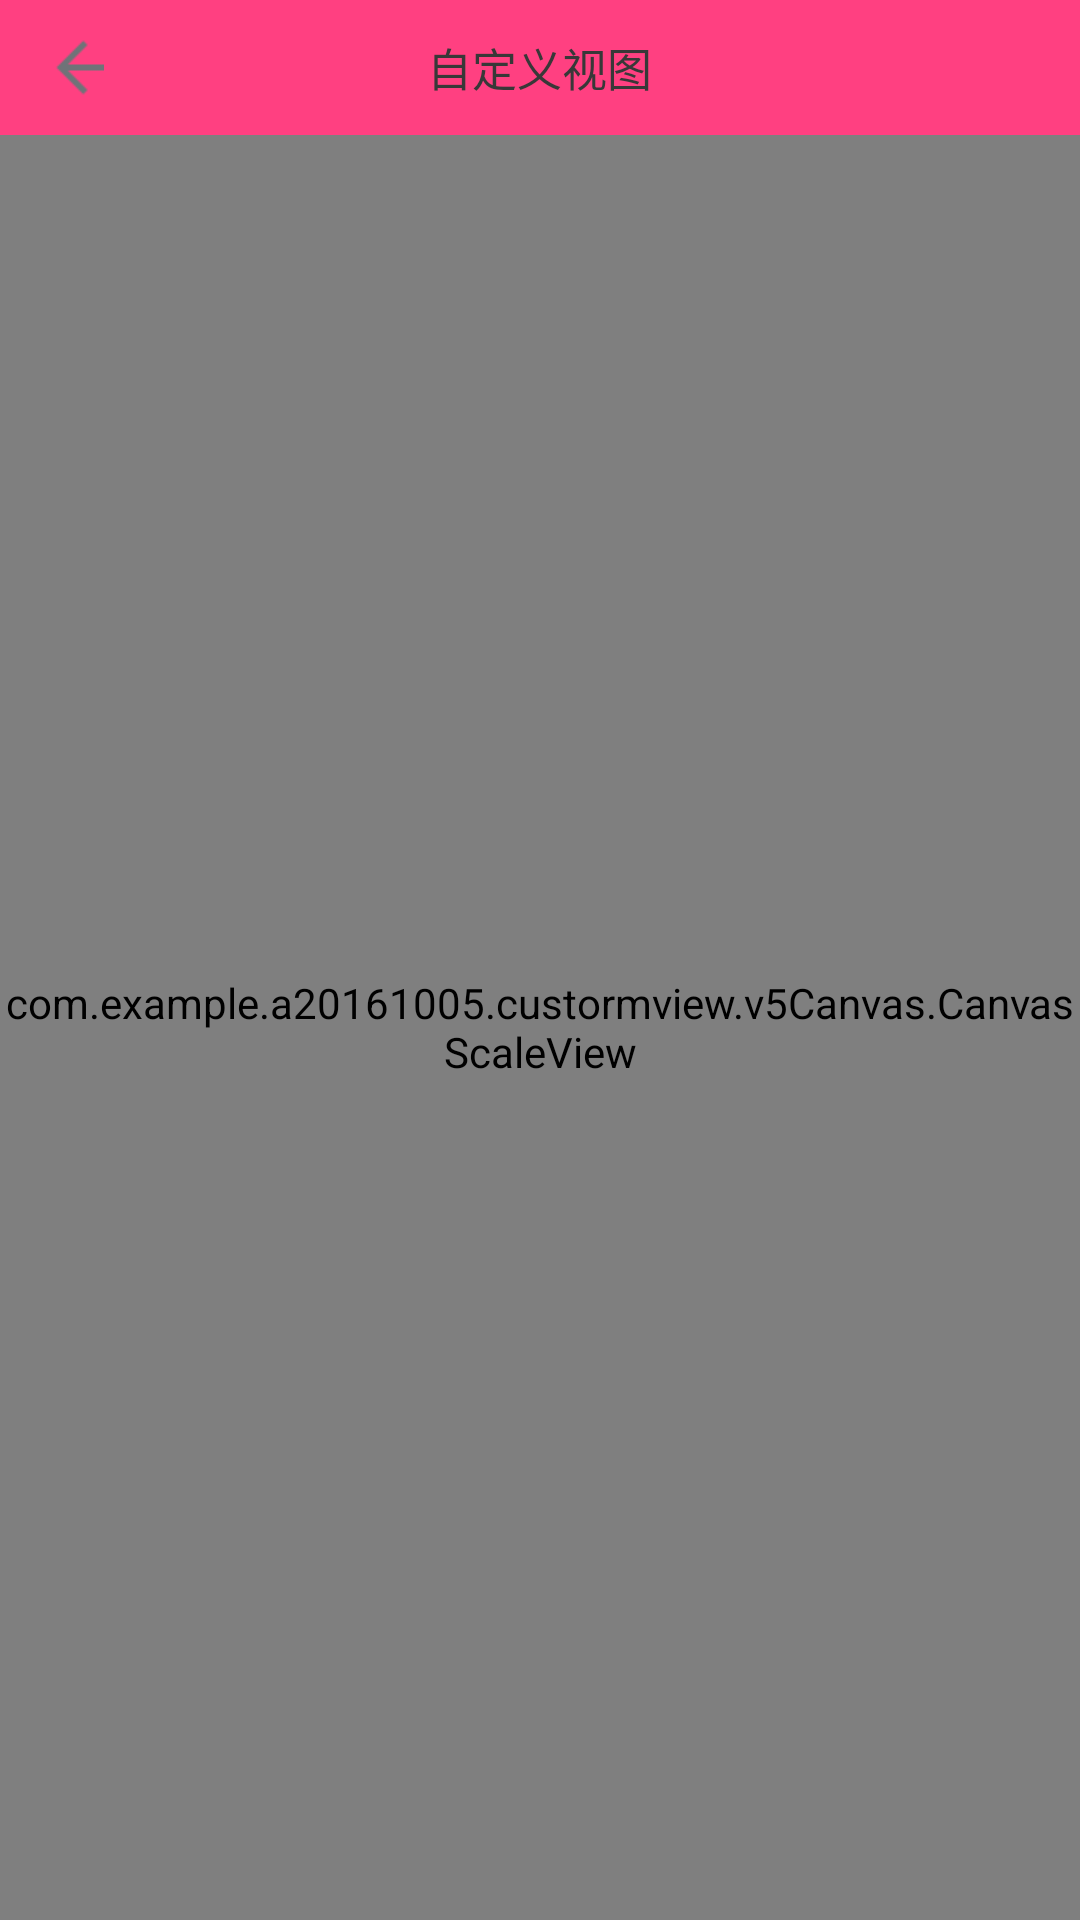

Screen size 1080 x 1920. Icon name, then its center in pixels as (x,y):
title back: (80,67)
